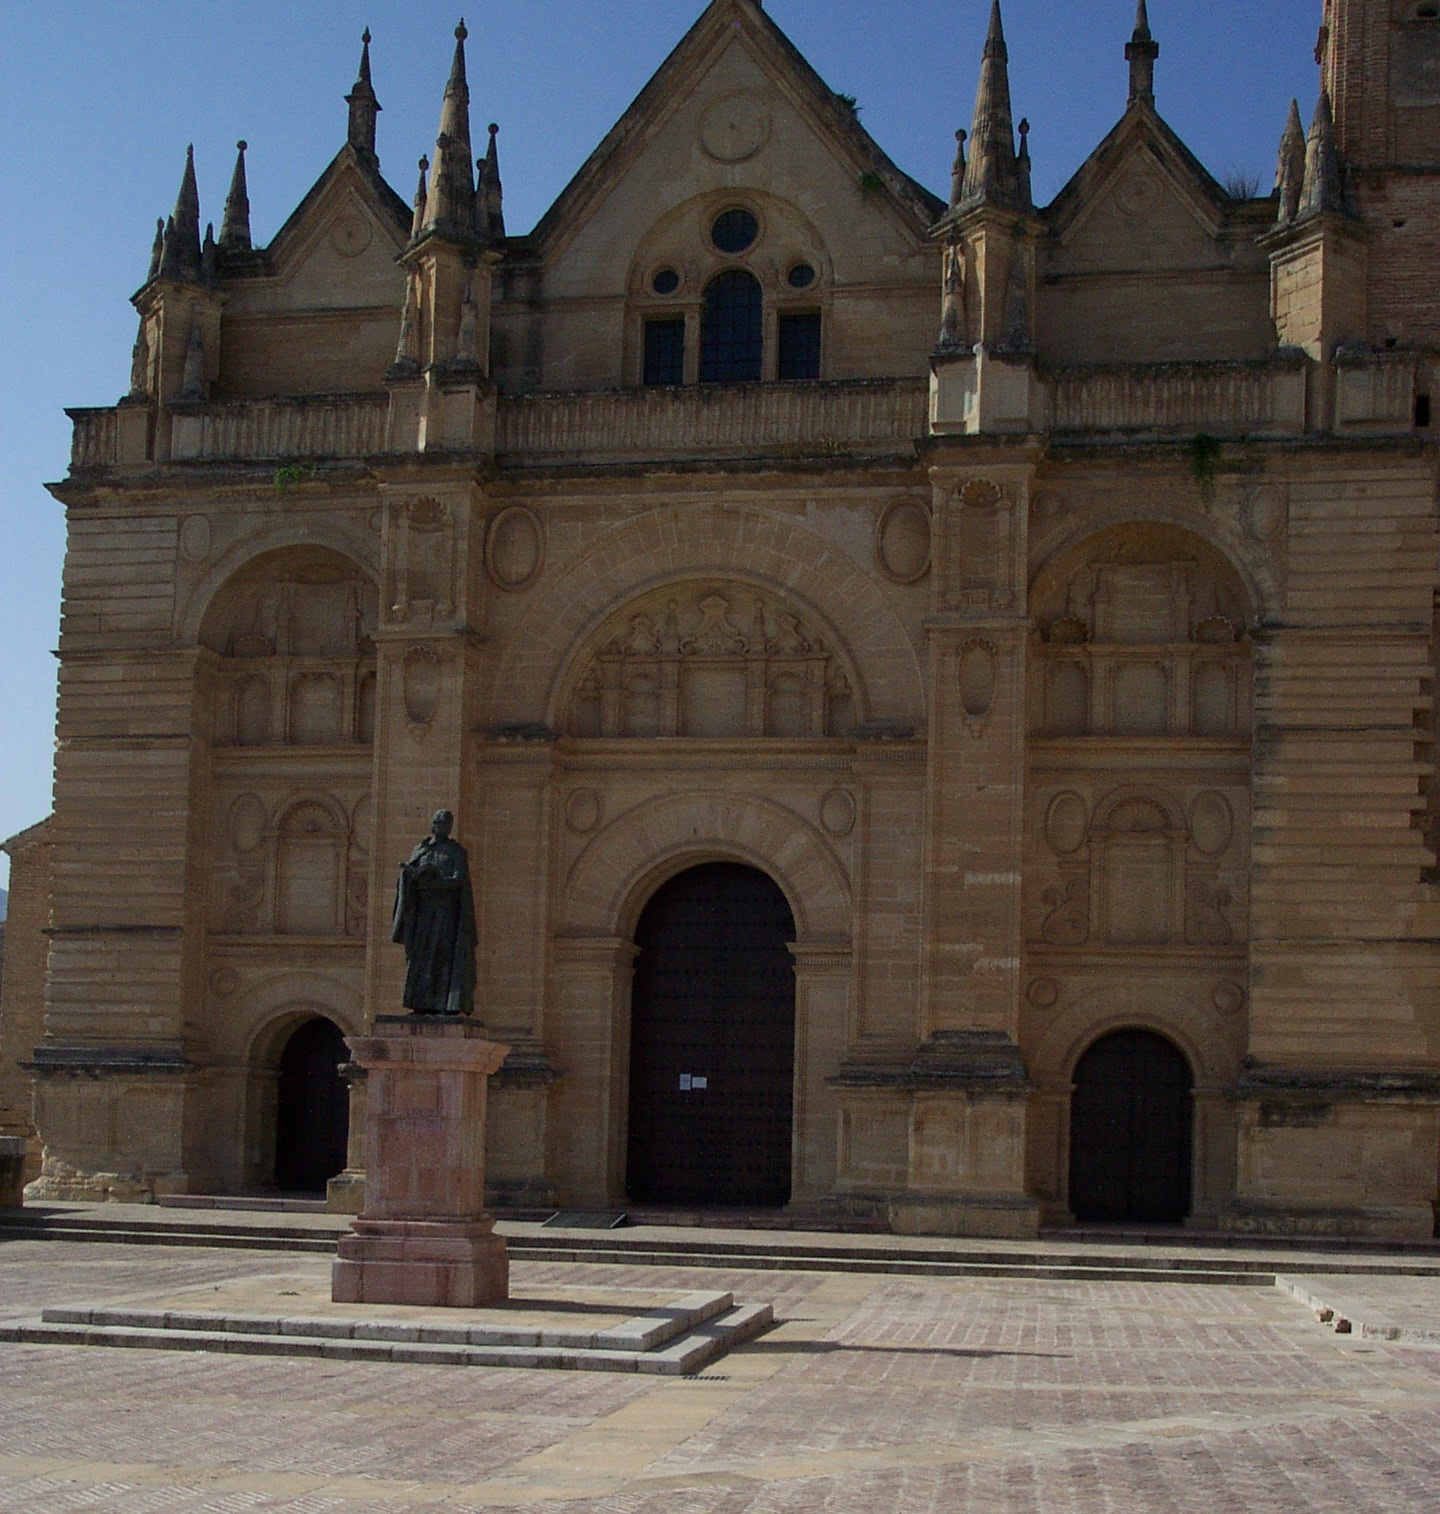arco-medio-punto: (539, 566, 872, 741), (1022, 510, 1276, 661), (606, 838, 817, 973), (188, 537, 377, 662), (1059, 1017, 1213, 1111), (235, 998, 352, 1088)
ojo-de-buey: (699, 195, 768, 258), (644, 260, 690, 299), (777, 254, 819, 292)
serliana: (635, 258, 826, 391)
